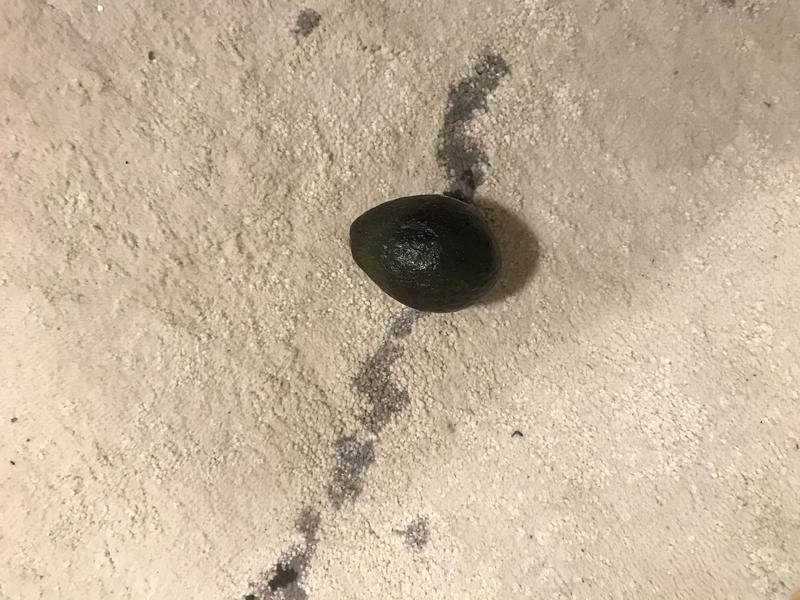avocado: (334, 193, 510, 317)
